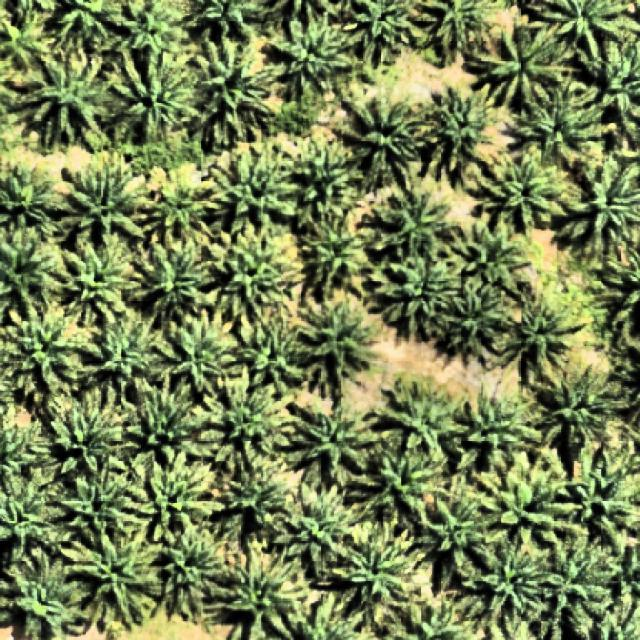Kelapa_Sawit: (476, 452, 592, 551), (462, 19, 582, 112), (192, 375, 300, 473), (191, 36, 284, 147), (208, 218, 306, 322), (18, 50, 120, 148), (39, 389, 138, 486), (542, 363, 630, 471), (334, 89, 426, 191), (64, 526, 161, 622), (292, 292, 386, 391), (212, 535, 300, 640), (131, 450, 224, 548), (334, 518, 418, 626), (510, 84, 615, 168), (535, 536, 620, 638), (278, 480, 367, 577), (424, 493, 510, 593), (62, 150, 152, 244), (420, 79, 500, 184), (296, 200, 381, 298), (292, 392, 390, 477), (379, 374, 473, 462), (208, 150, 304, 236), (362, 444, 453, 534), (272, 2, 360, 95), (130, 236, 218, 329), (476, 152, 572, 236), (379, 247, 464, 341), (58, 454, 142, 548), (457, 380, 545, 469), (56, 236, 142, 327), (110, 51, 199, 138), (208, 451, 296, 538), (160, 306, 242, 399), (76, 312, 164, 396), (146, 522, 222, 618), (123, 374, 200, 468), (561, 462, 640, 551), (508, 298, 590, 382), (136, 162, 222, 242), (371, 184, 458, 262), (470, 540, 544, 631), (457, 221, 534, 301), (438, 283, 514, 362), (9, 314, 82, 396), (290, 132, 364, 212), (240, 314, 302, 392)
